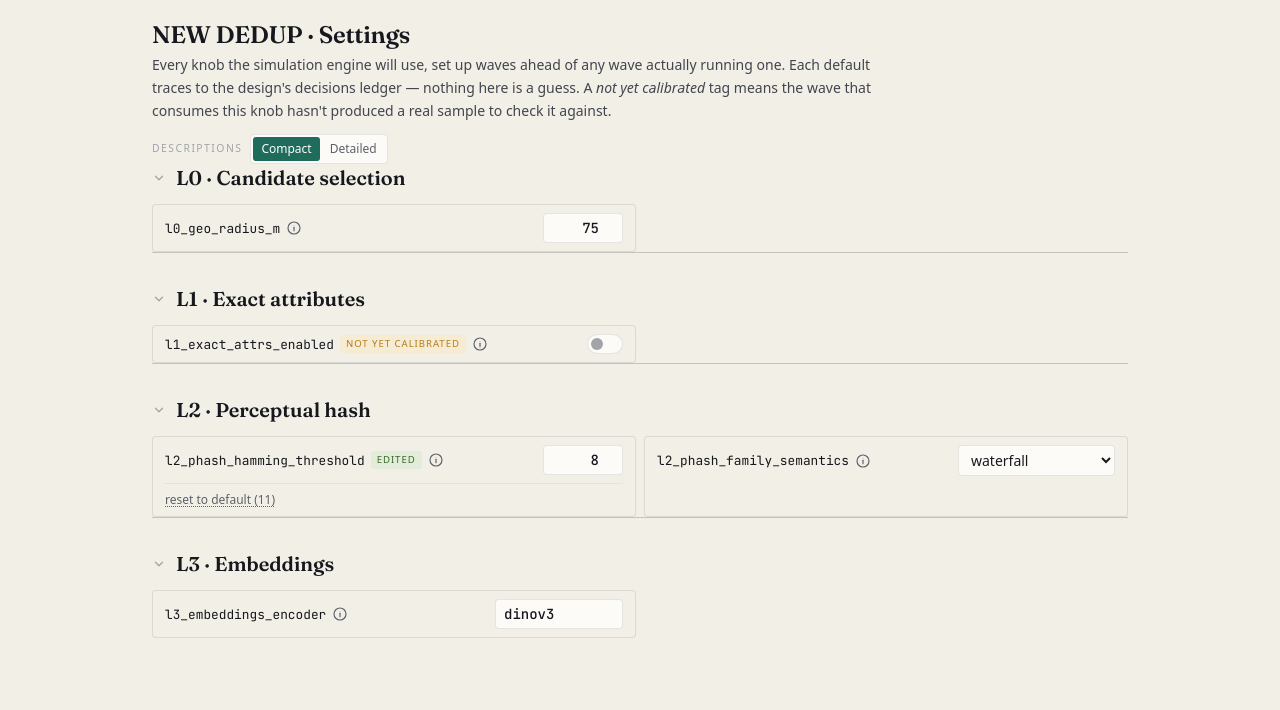
Test case: <NewDedupSettings> › Detailed mode shows every explanation inline
The width and height of the screenshot is (1280, 710).
Expected: the text "L0 · Candidate selection" is shown, [176,164,405,192]
Step 1. Click the button "Detailed" → click(353, 149), box [322,137,385,161]
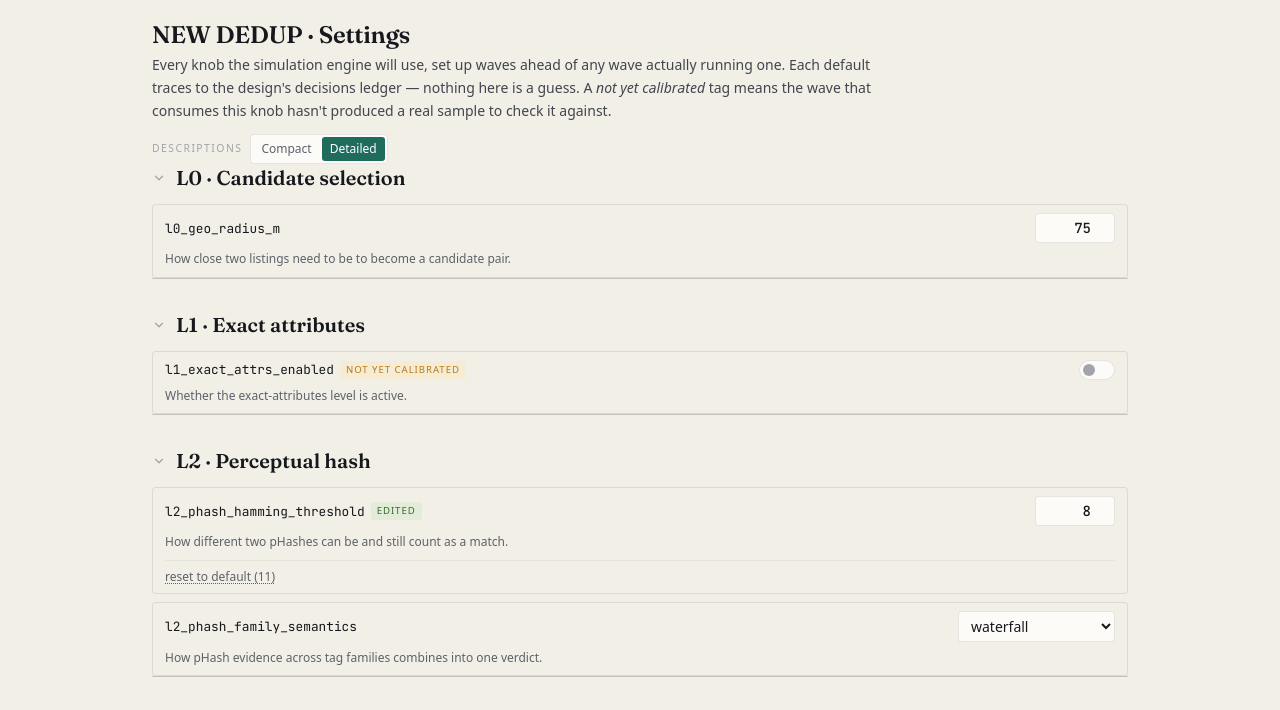
Now the text "How close two listings need to be to become a candidate pair." is shown, box [165,250,511,267]
Now the text "Whether the exact-attributes level is active." is shown, box [165,387,407,404]
